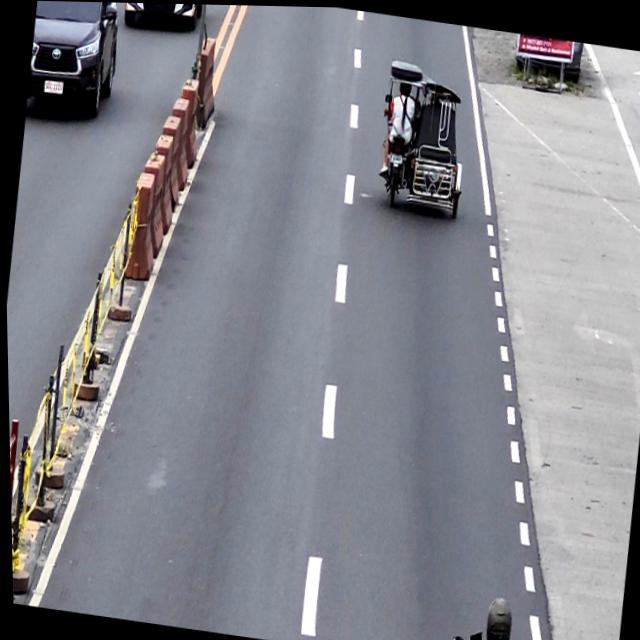License-Plate: (388, 150, 403, 163)
Tricycle: (370, 55, 476, 219)
